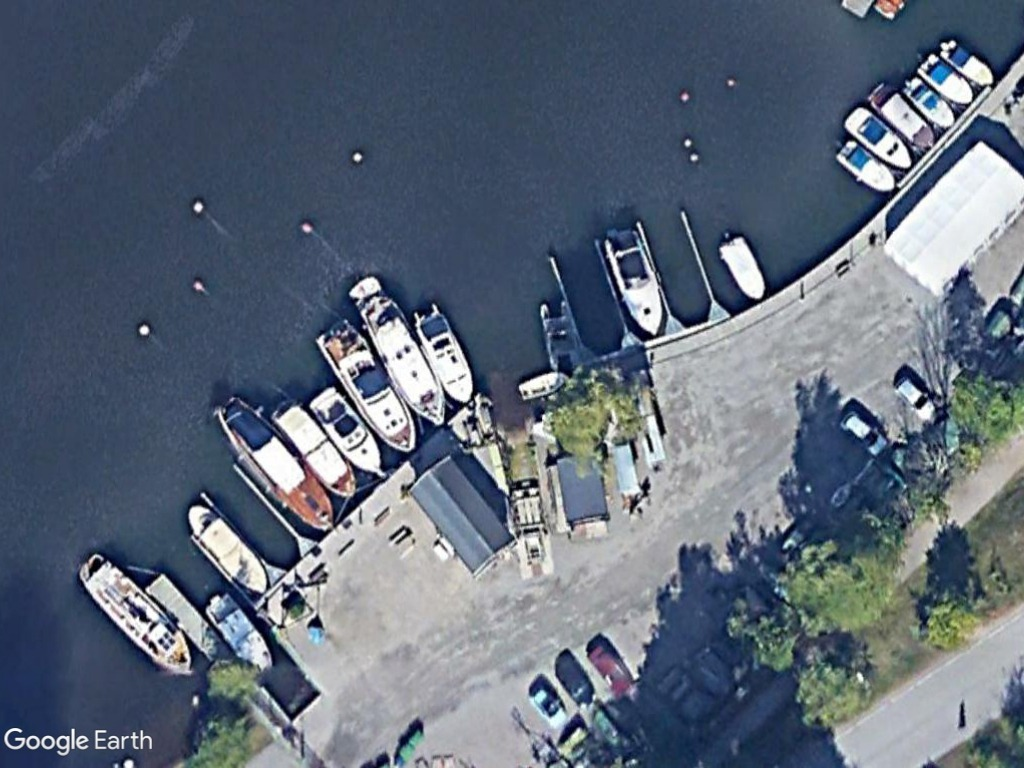boat: (209, 395, 344, 537), (71, 547, 199, 682), (309, 319, 427, 459), (358, 292, 454, 429), (269, 392, 362, 507), (182, 497, 276, 601), (596, 219, 669, 341), (306, 384, 392, 484), (193, 584, 281, 677), (408, 302, 480, 414), (860, 77, 939, 153), (838, 100, 917, 176), (711, 229, 778, 308), (826, 137, 903, 197), (897, 70, 962, 136), (912, 48, 979, 110), (935, 31, 1001, 93), (513, 363, 573, 405)
car: (836, 406, 894, 464), (887, 371, 945, 428)
